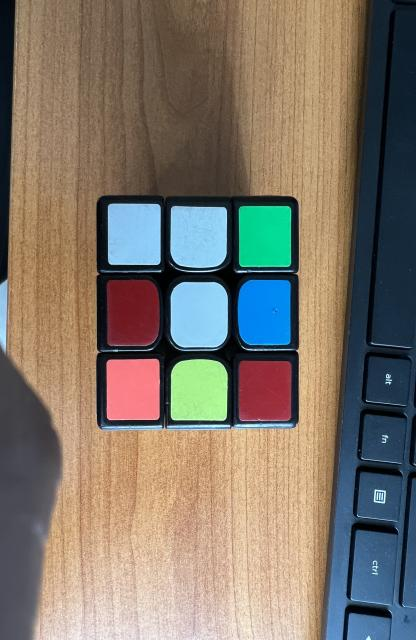Blue: (237, 280, 290, 345)
Green: (238, 206, 291, 268)
Orange: (106, 359, 160, 420)
Red: (107, 280, 159, 346), (238, 360, 291, 421)
White: (170, 282, 228, 348), (170, 206, 228, 268), (107, 204, 160, 265)
Yellow: (170, 359, 228, 421)
